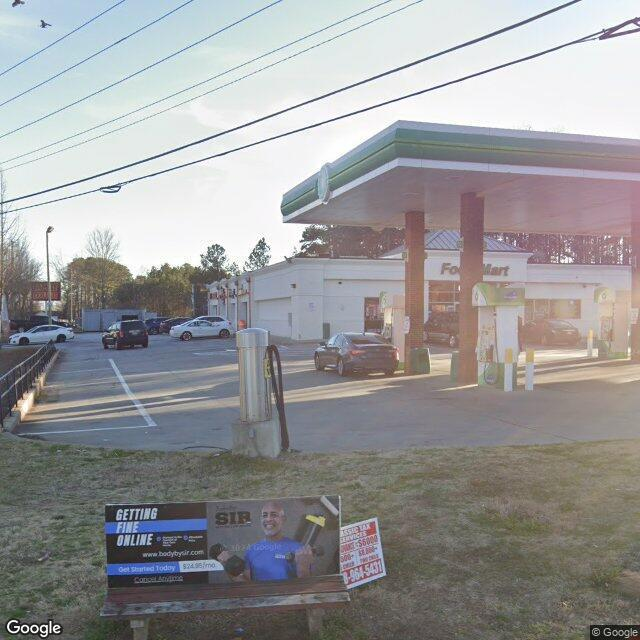seating: (99, 495, 351, 640)
